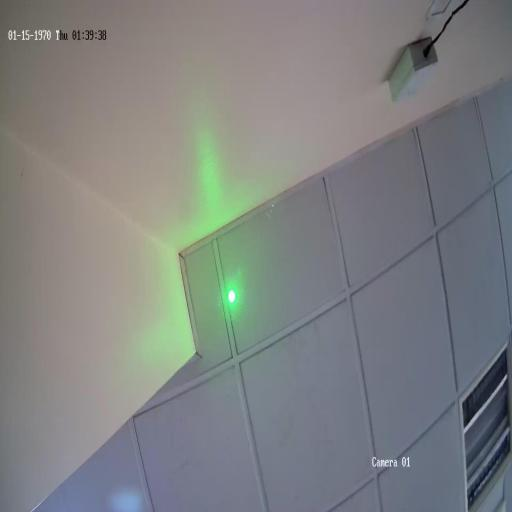laser: (226, 284, 238, 307)
